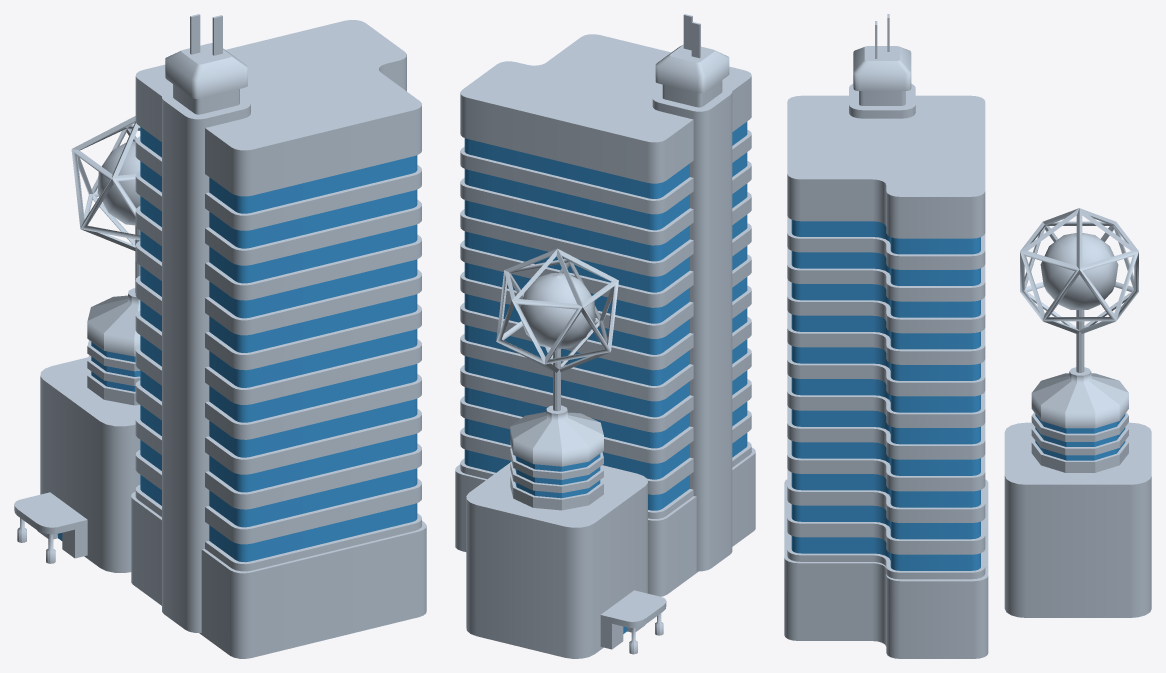
The model's file is BUILDINGTEST.gltf.
3 views of the same model, side by side, from view 1: azimuth 30°, elevation 25°; view 2: azimuth 150°, elevation 25°; view 3: azimuth 270°, elevation 25° (orthographic). The views are drawn at different scales.
Parts seen in each view (by area): view 1: Cube.019; view 2: Cube.019; view 3: Cube.019.
Boxes of the visible parts, x1,y1,x2,y2 form: Cube.019: (14, 14, 426, 658); Cube.019: (455, 14, 755, 658); Cube.019: (784, 14, 1151, 658).
Size of the model in its own units: 2.98 by 6.11 by 3.71.
